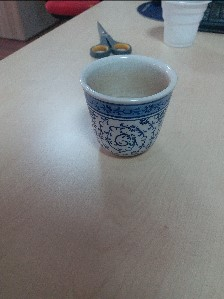cup: (79, 55, 177, 160)
